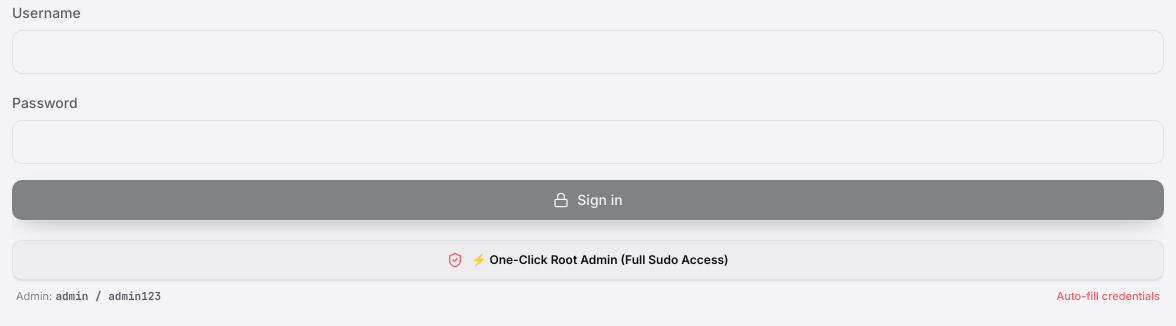
LoginForm › auto-fills admin credentials when clicking auto-fill
This screenshot has width=1176, height=326.
Click the button "Auto-fill credentials" at (1108, 296), box [1057,288,1160,304]
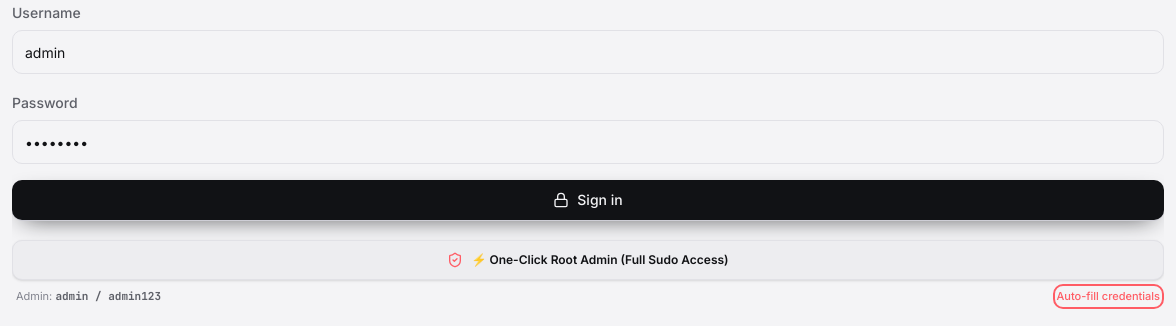
Result: the field labelled "Username" holds "admin" at [12,30,1164,74]
Result: the password field labelled "Password" holds "admin123" at [12,120,1164,164]
